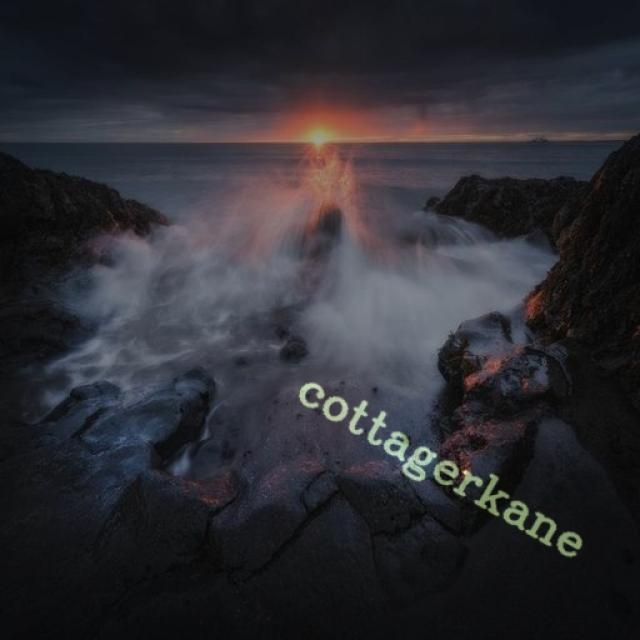watermark: (283, 364, 607, 568)
